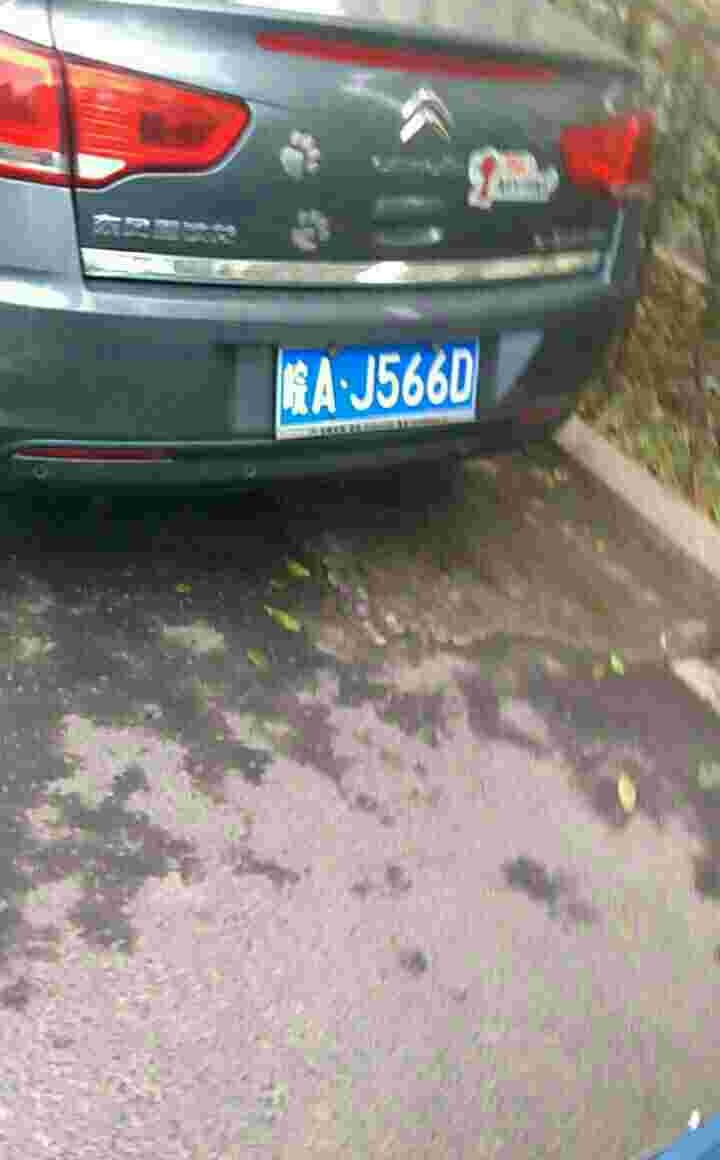license_plate: (282, 335, 477, 430)
